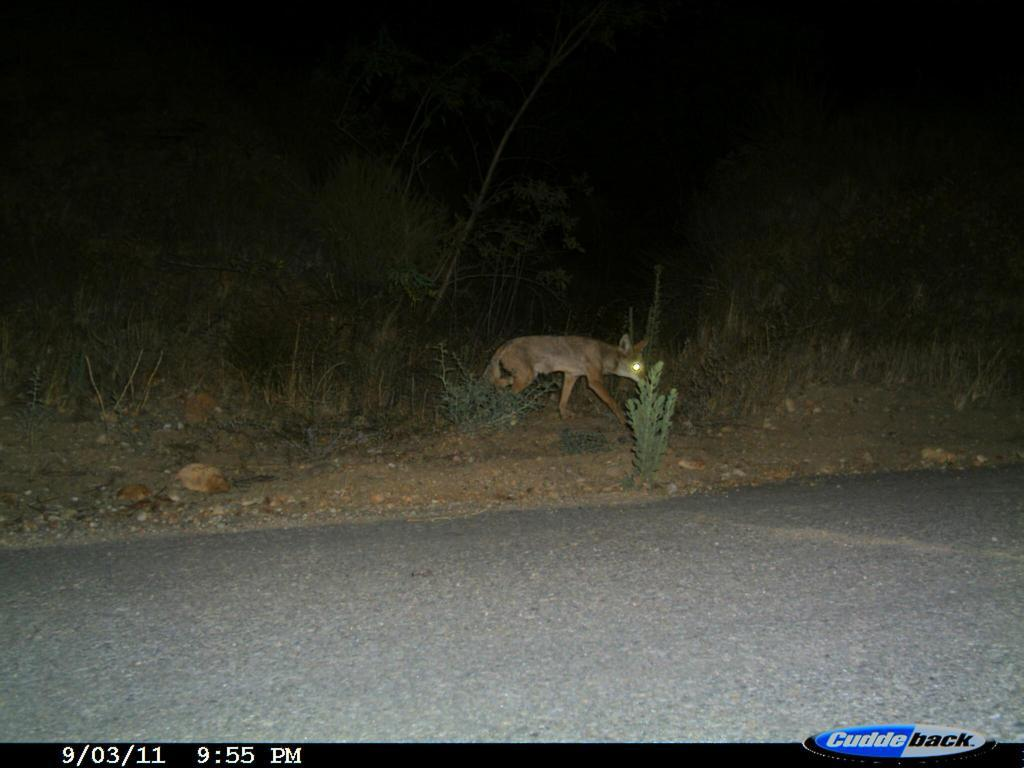coyote: (477, 333, 656, 425)
